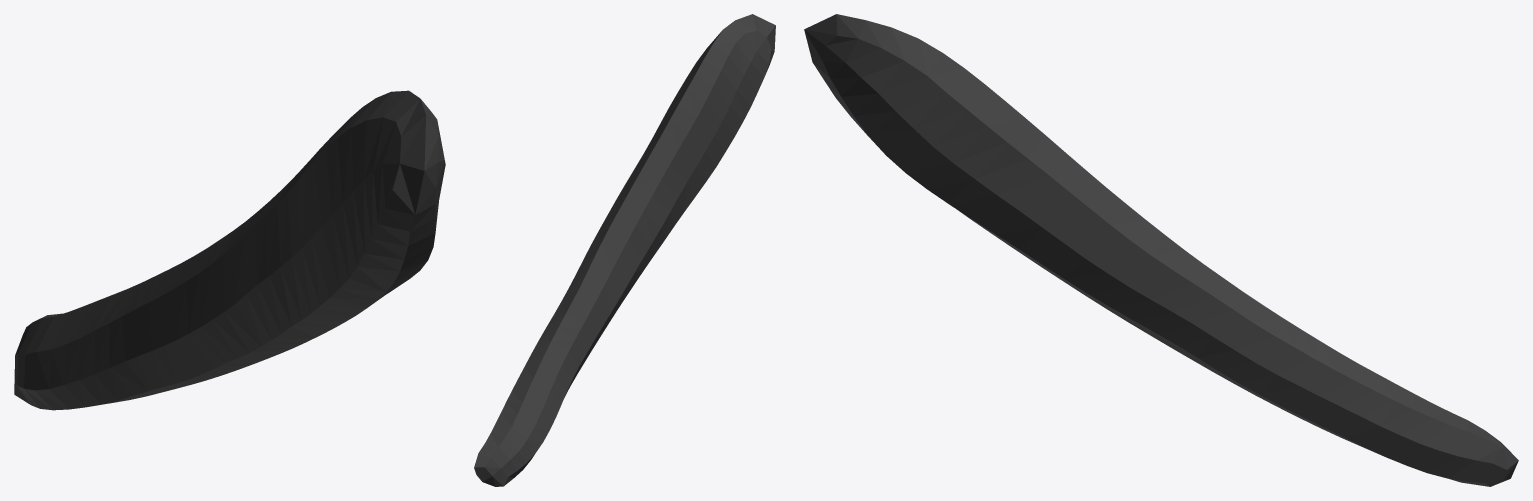
File: Lat_femoropatella_lig.glb
The picture shows the model from 3 angles, left to right: view 1: azimuth 30°, elevation 25°; view 2: azimuth 150°, elevation 25°; view 3: azimuth 270°, elevation 25°; orthographic projection. The views are drawn at different scales.
Visible parts, largest first — view 1: Lat_femoropatella_lig; view 2: Lat_femoropatella_lig; view 3: Lat_femoropatella_lig.
Part boxes in pixels (x1,y1,x2,y2): Lat_femoropatella_lig: [14, 90, 445, 410]; Lat_femoropatella_lig: [474, 14, 775, 486]; Lat_femoropatella_lig: [804, 14, 1518, 486].
Size of the model in its own units: 0.1792 by 0.7433 by 1.07.
Materials: 1 (1 with a texture image).
